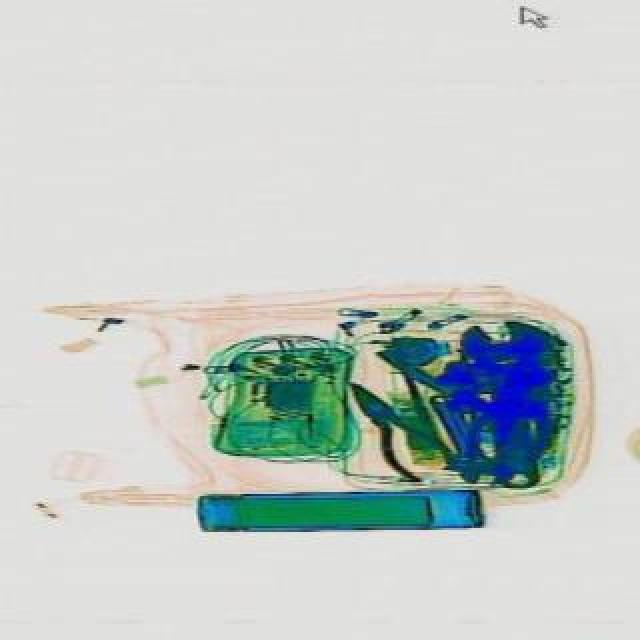scissors: (454, 318, 562, 492)
wrench: (326, 366, 454, 490)
